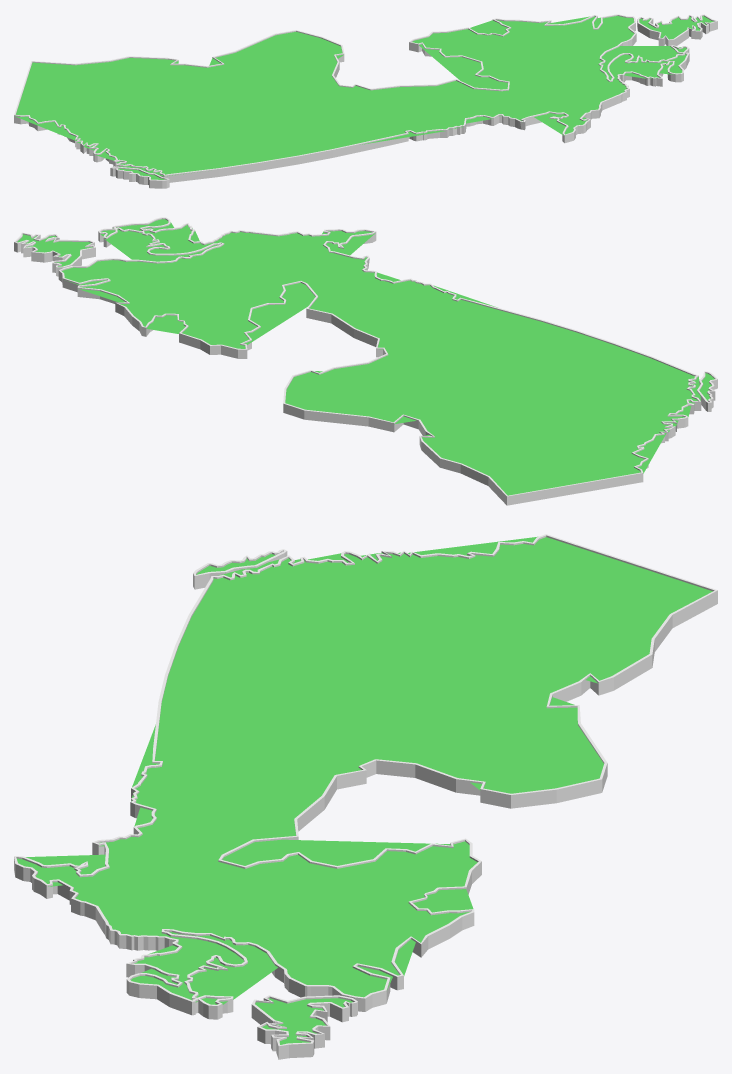
The model's file is Canada.fbx.
The picture shows the model from 3 angles, top to bottom: view 1: azimuth 30°, elevation 25°; view 2: azimuth 150°, elevation 25°; view 3: azimuth 270°, elevation 25°; orthographic projection. The views are drawn at different scales.
Parts seen in each view (by area): view 1: Canada.001; view 2: Canada.001; view 3: Canada.001.
Part boxes in pixels (x1=…): Canada.001: x1=14, y1=14, x2=717, y2=188; Canada.001: x1=14, y1=217, x2=717, y2=505; Canada.001: x1=14, y1=534, x2=717, y2=1059.
Size of the model in its own units: 1131 by 14.14 by 657.
